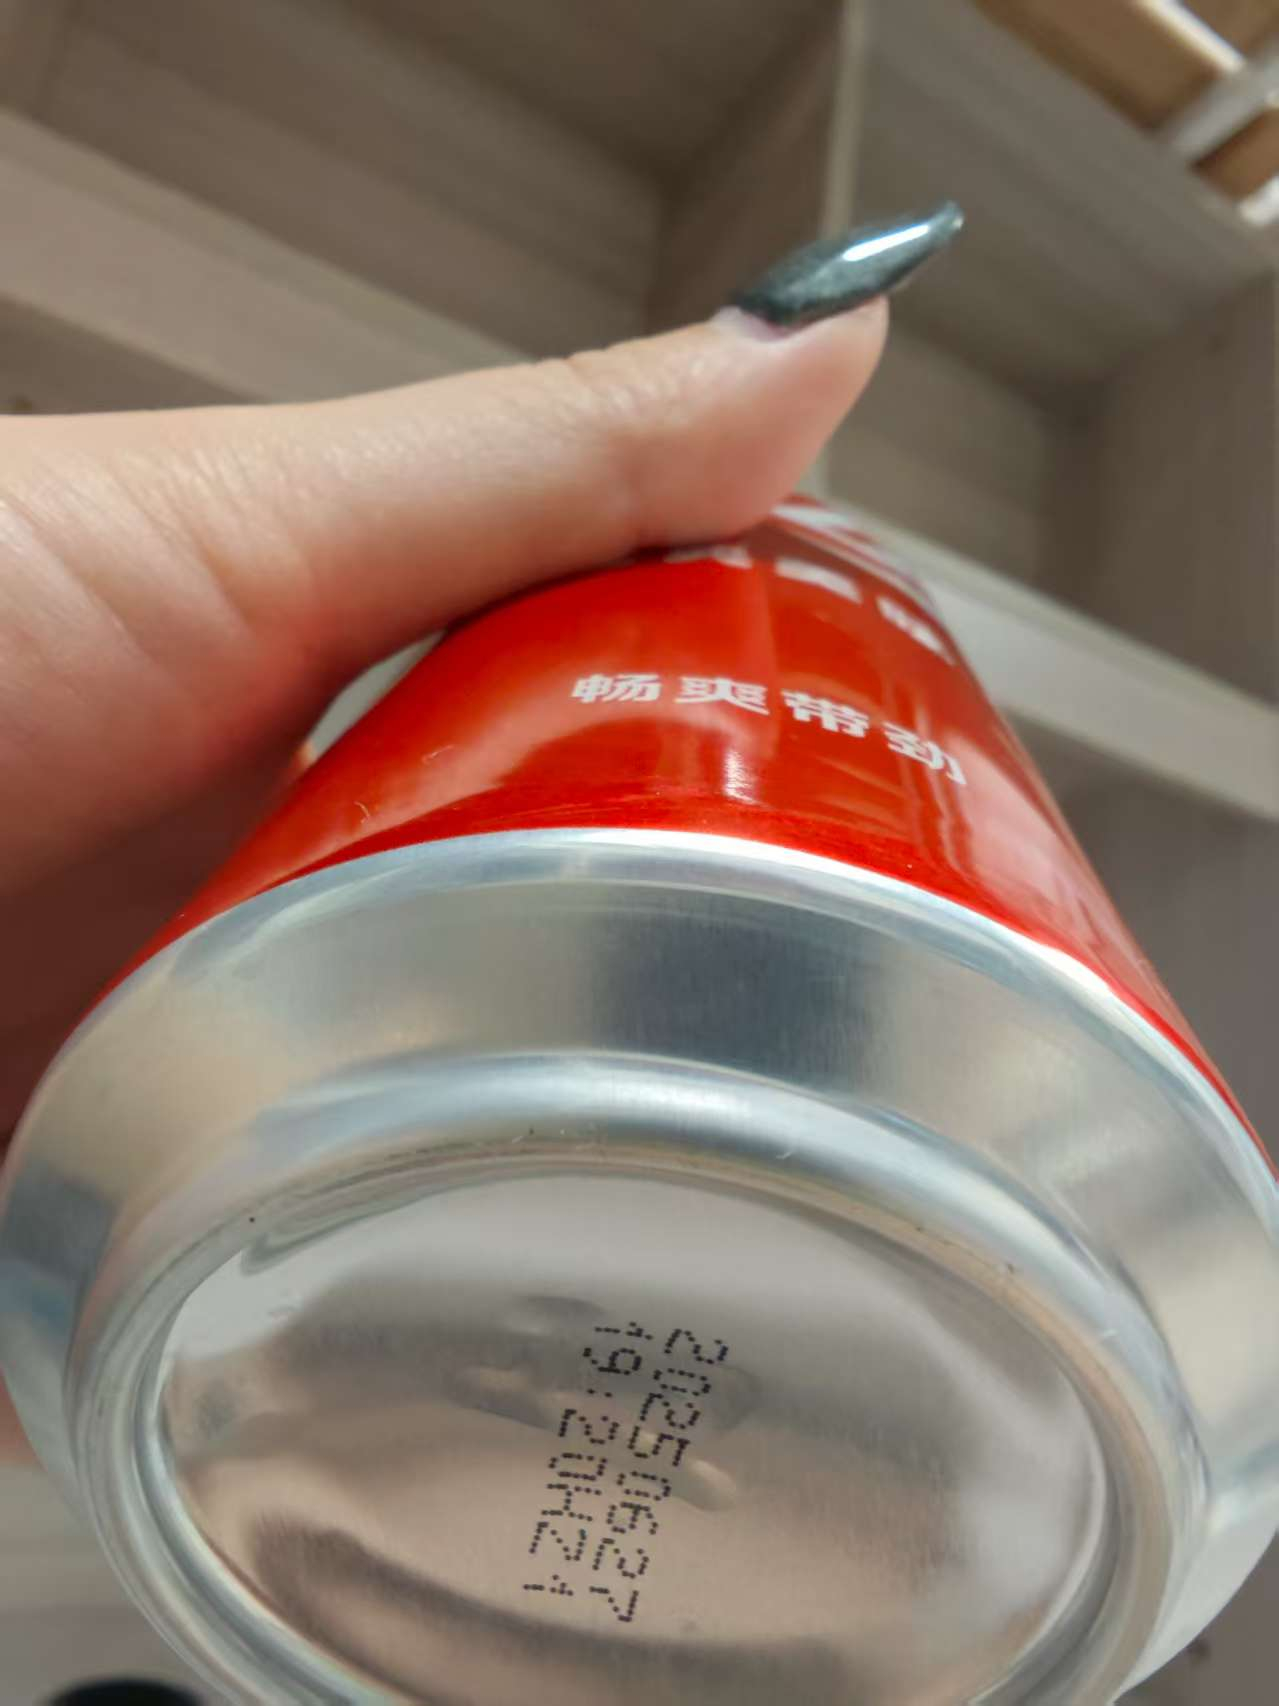可乐: (11, 376, 1266, 1705)
